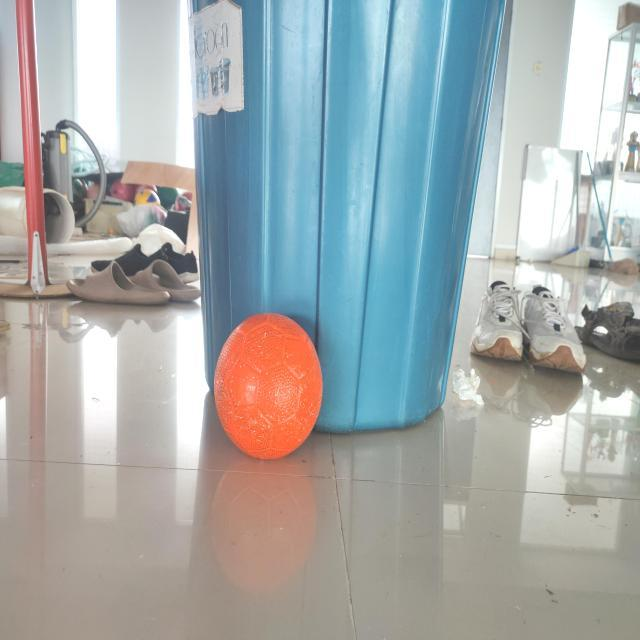bola: (212, 307, 326, 467)
